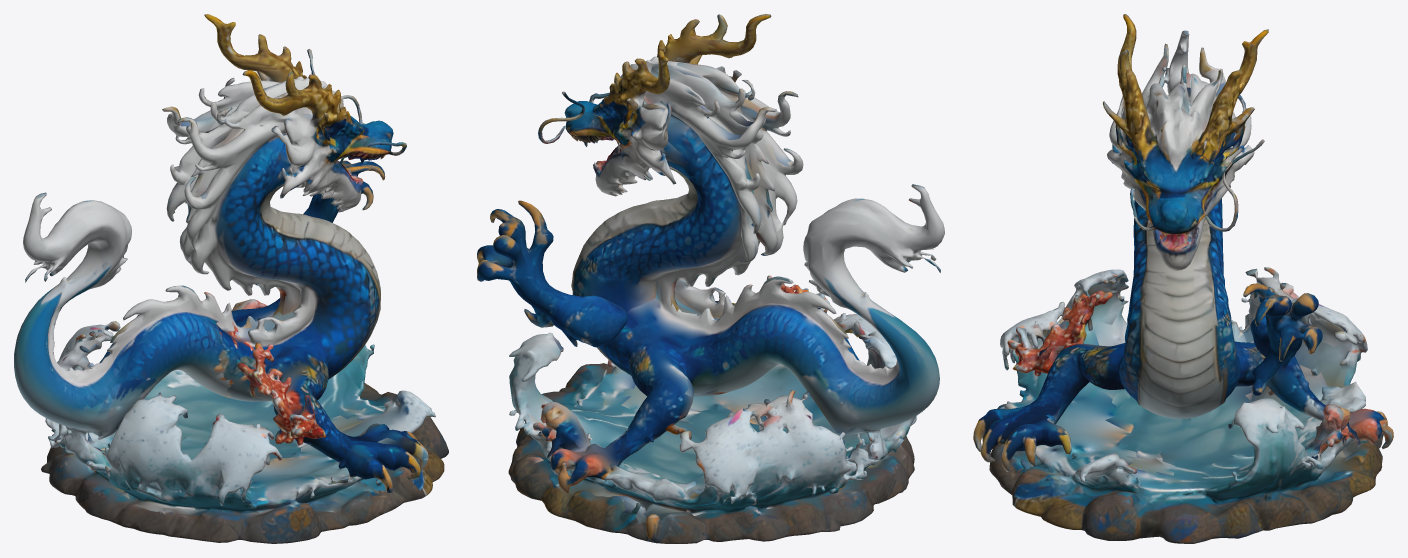
Rendered from sea_dragon.glb.
3 renders of one model, left to right at view 1: azimuth 30°, elevation 25°; view 2: azimuth 150°, elevation 25°; view 3: azimuth 270°, elevation 25°, orthographic. The views are drawn at different scales.
Parts seen in each view (by area): view 1: texture_pbr_v128; view 2: texture_pbr_v128; view 3: texture_pbr_v128.
Part boxes in pixels (box(x1,y1,x2,y2)): texture_pbr_v128: box(14, 14, 448, 543); texture_pbr_v128: box(477, 14, 944, 543); texture_pbr_v128: box(973, 14, 1393, 543).
Bounding box in the file's own units: 0.853 × 0.8542 × 0.7552.
1 material, 1 textured.
